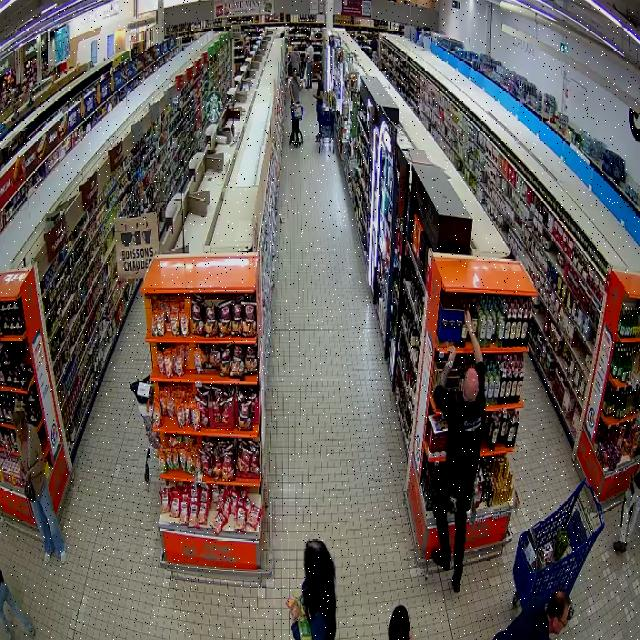article: (285, 595, 306, 619), (298, 615, 311, 639), (461, 317, 468, 347)
bags: (27, 425, 29, 468)
hands: (291, 606, 301, 624), (447, 344, 456, 360), (464, 310, 472, 328)
person: (431, 310, 485, 592), (15, 408, 65, 562), (287, 539, 335, 639), (494, 590, 568, 639)
